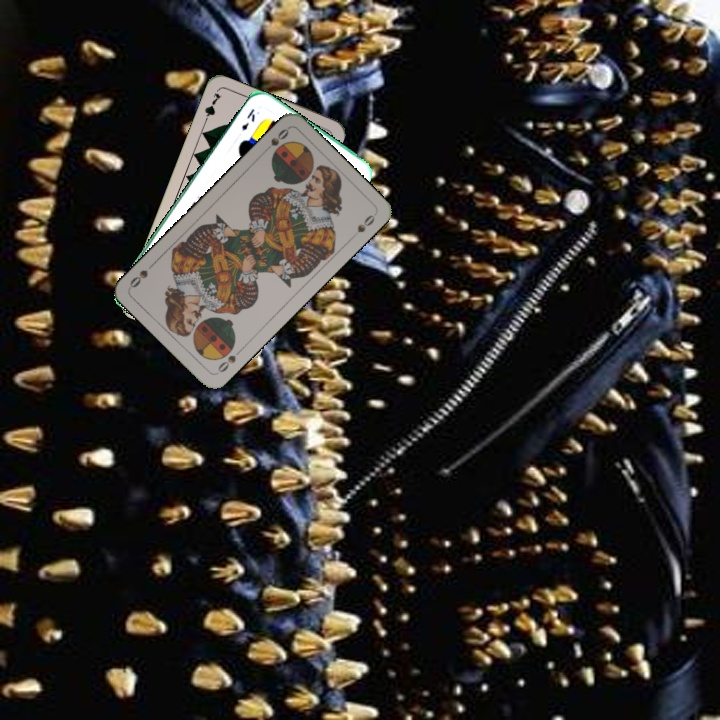EK: (237, 104, 258, 133)
G7: (199, 89, 224, 127)
SO: (259, 124, 292, 156), (213, 344, 245, 376)
